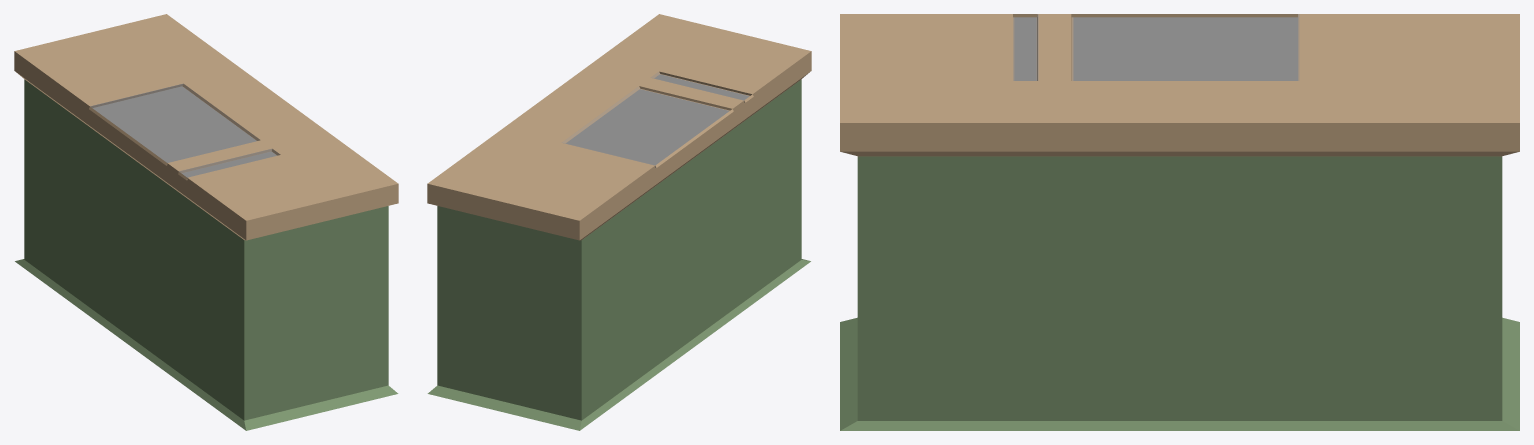
The model's file is PianoCotturaIsola.fbx.
3 renders of one model, left to right at view 1: azimuth 30°, elevation 25°; view 2: azimuth 150°, elevation 25°; view 3: azimuth 270°, elevation 25°, orthographic. The views are drawn at different scales.
Parts seen in each view (by area): view 1: IsolaPianoCottura; view 2: IsolaPianoCottura; view 3: IsolaPianoCottura.
Boxes of the visible parts, <box> form: IsolaPianoCottura: <box>14,14,398,430</box>; IsolaPianoCottura: <box>427,14,811,430</box>; IsolaPianoCottura: <box>840,14,1519,430</box>.
Bounding box in the file's own units: 72.94 × 95.4 × 191.
